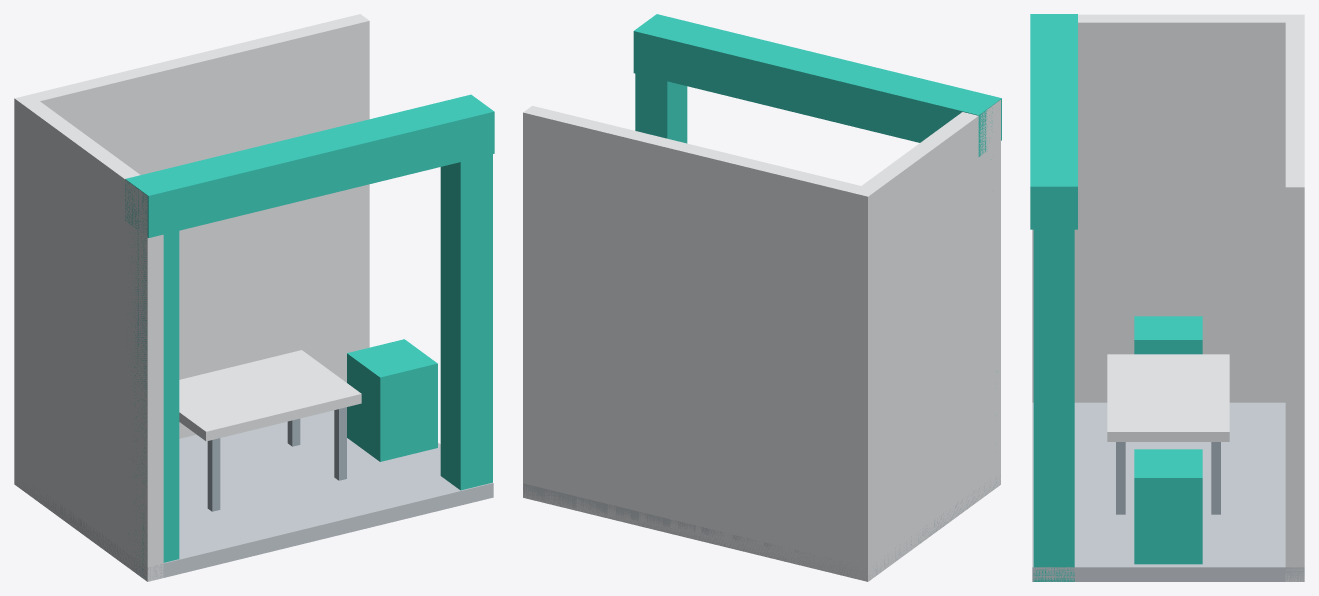
3 renders of one model, left to right at view 1: azimuth 30°, elevation 25°; view 2: azimuth 150°, elevation 25°; view 3: azimuth 270°, elevation 25°, orthographic. The views are drawn at different scales.
Visible parts, largest first — view 1: Exhibition Booth Concept; view 2: Exhibition Booth Concept; view 3: Exhibition Booth Concept.
Boxes of the visible parts, <box> form: Exhibition Booth Concept: <box>14,14,494,581</box>; Exhibition Booth Concept: <box>523,14,1001,581</box>; Exhibition Booth Concept: <box>1030,14,1304,581</box>.
Bounding box in the file's own units: 3 × 3.2 × 2.01.
